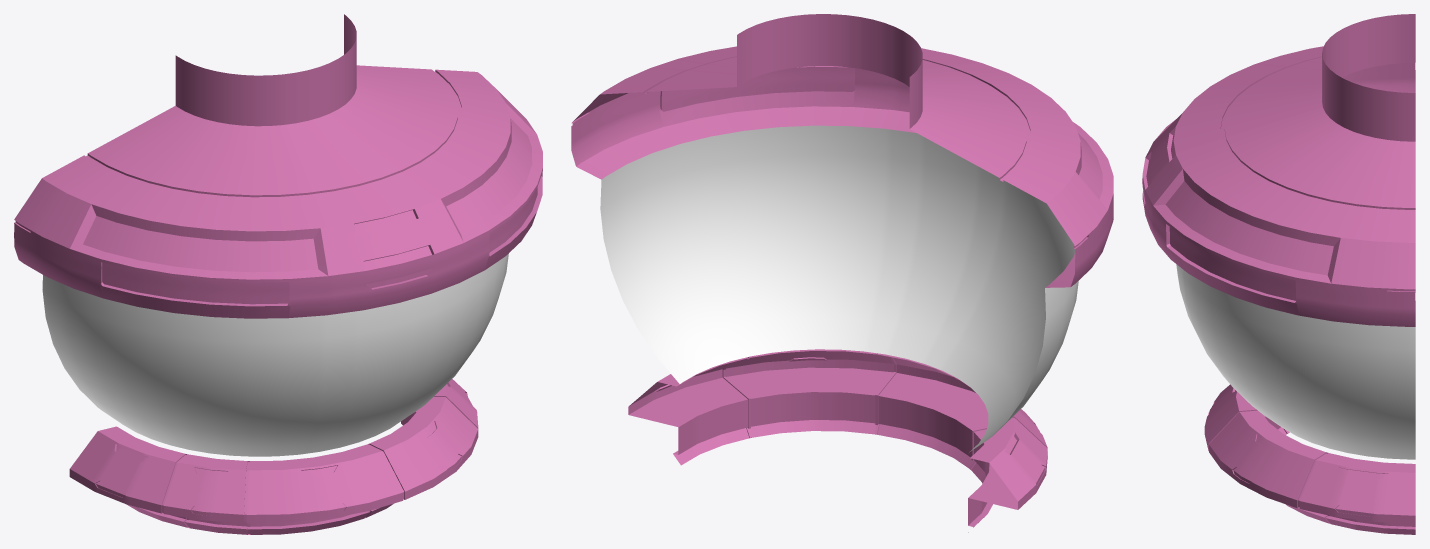
File: Main 1,2.fbx
3 views of the same model, side by side, from view 1: azimuth 30°, elevation 25°; view 2: azimuth 150°, elevation 25°; view 3: azimuth 270°, elevation 25° (orthographic). The views are drawn at different scales.
Parts seen in each view (by area): view 1: Main2, Main1; view 2: Main2, Main1; view 3: Main2, Main1.
Boxes of the visible parts, box(x1,y1,x2,y2) form: Main2: box(14, 14, 542, 456); Main1: box(69, 379, 478, 534); Main2: box(571, 14, 1113, 452); Main1: box(628, 349, 1047, 532); Main2: box(1142, 14, 1415, 459); Main1: box(1204, 384, 1415, 534).
Size of the model in its own units: 645 by 544 by 323.
